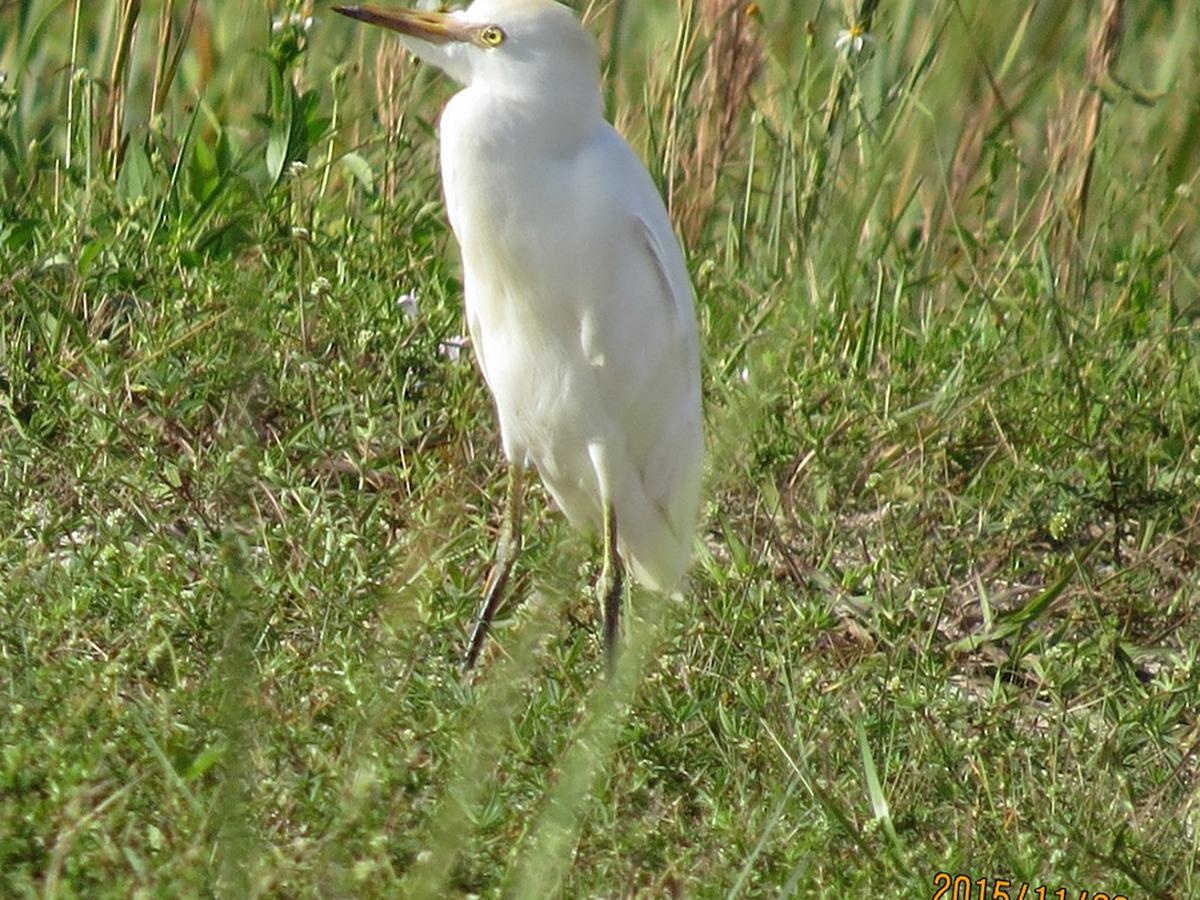egret: (299, 1, 754, 725)
